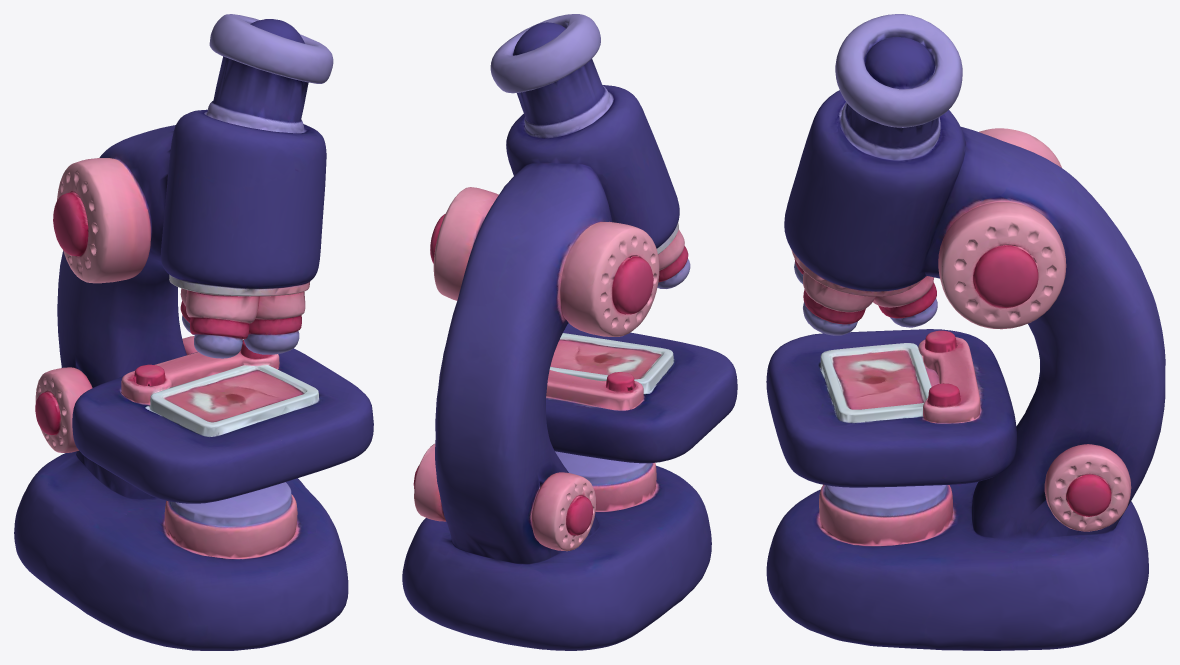
Rendered from microscopio.glb.
3 renders of one model, left to right at view 1: azimuth 30°, elevation 25°; view 2: azimuth 150°, elevation 25°; view 3: azimuth 270°, elevation 25°, orthographic. The views are drawn at different scales.
Visible parts, largest first — view 1: tripo_node_fba2e632-d8fc-4e5d-b91c-0e788c99ab16; view 2: tripo_node_fba2e632-d8fc-4e5d-b91c-0e788c99ab16; view 3: tripo_node_fba2e632-d8fc-4e5d-b91c-0e788c99ab16.
Part boxes in pixels (x1,y1,x2,y2): tripo_node_fba2e632-d8fc-4e5d-b91c-0e788c99ab16: (14,14,373,650); tripo_node_fba2e632-d8fc-4e5d-b91c-0e788c99ab16: (402,14,737,650); tripo_node_fba2e632-d8fc-4e5d-b91c-0e788c99ab16: (766,14,1165,650).
Size of the model in its own units: 0.4349 by 0.9797 by 0.6006.
Materials: 1 (1 with a texture image).
